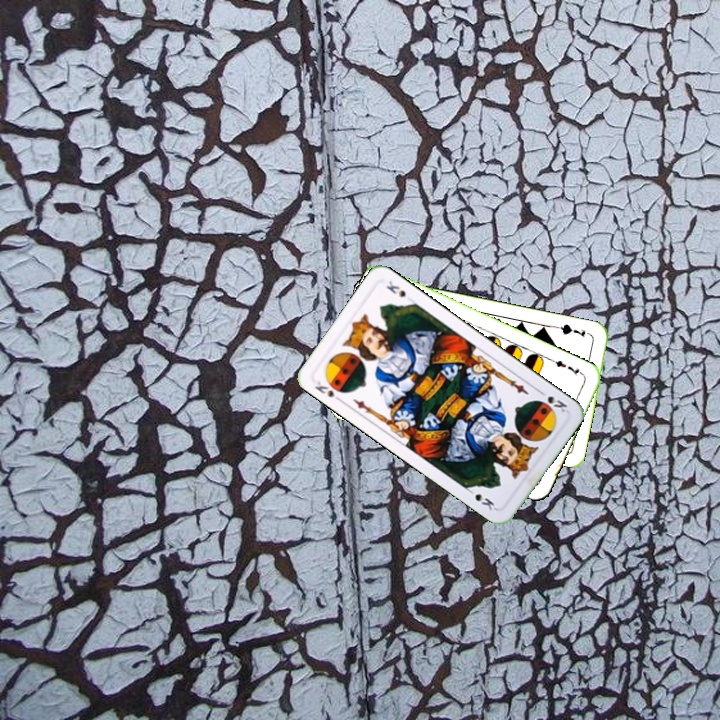E7: (548, 355, 586, 379)
G7: (553, 320, 594, 340)
SK: (534, 386, 570, 415), (311, 377, 345, 405)
